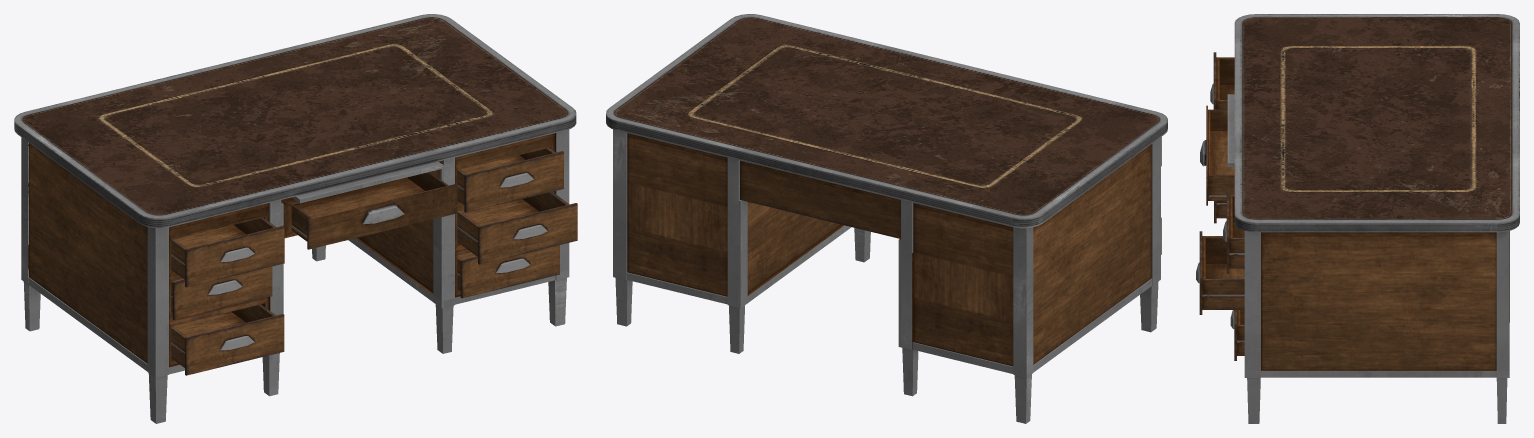
File: desk.glb
The picture shows the model from 3 angles, left to right: view 1: azimuth 30°, elevation 25°; view 2: azimuth 150°, elevation 25°; view 3: azimuth 270°, elevation 25°; orthographic projection.
Size of the model in its own units: 1.9 by 0.8778 by 1.24.
1 material, 1 textured.
